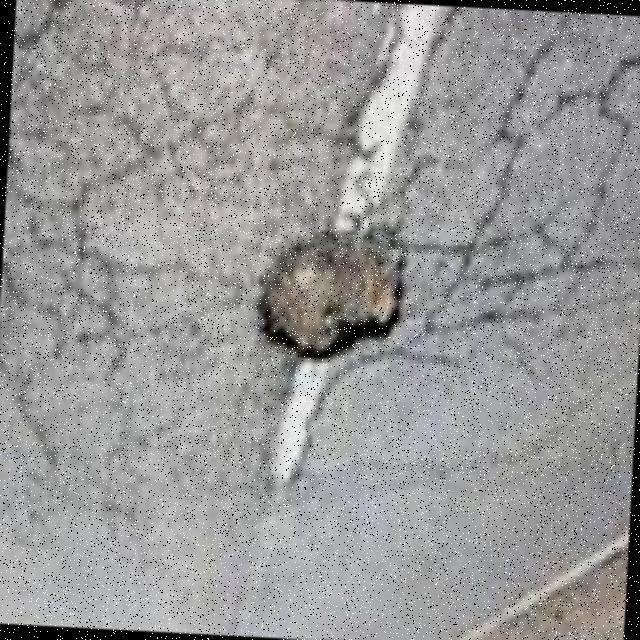Pothole: (256, 229, 403, 358)
